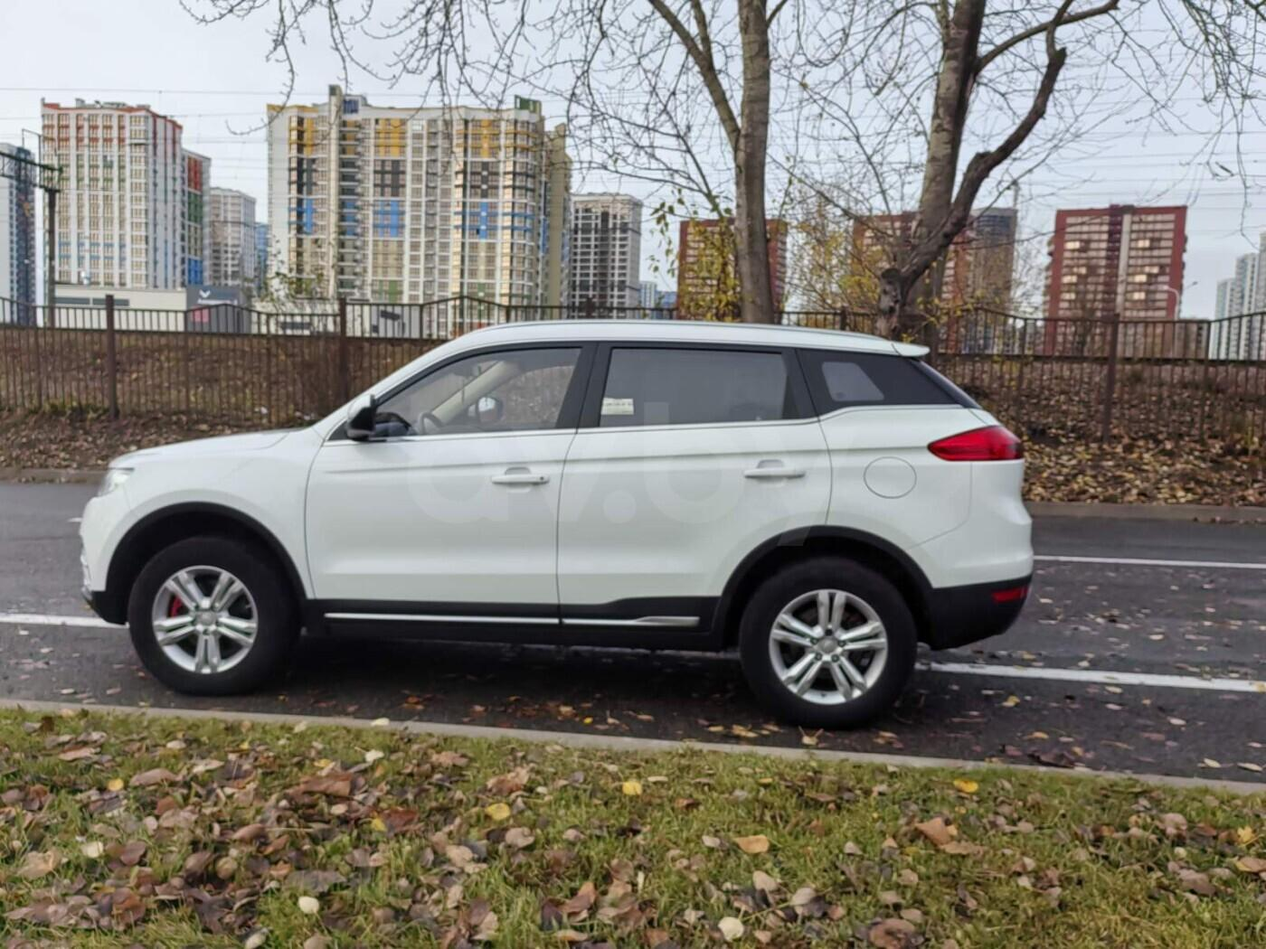Atlas_2016-2023: (72, 307, 1043, 733)
